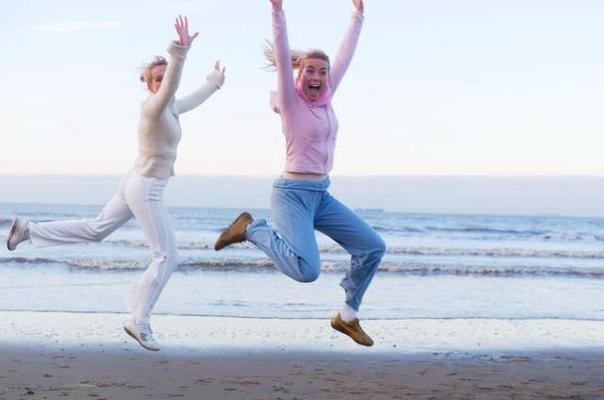person: (208, 2, 384, 348)
